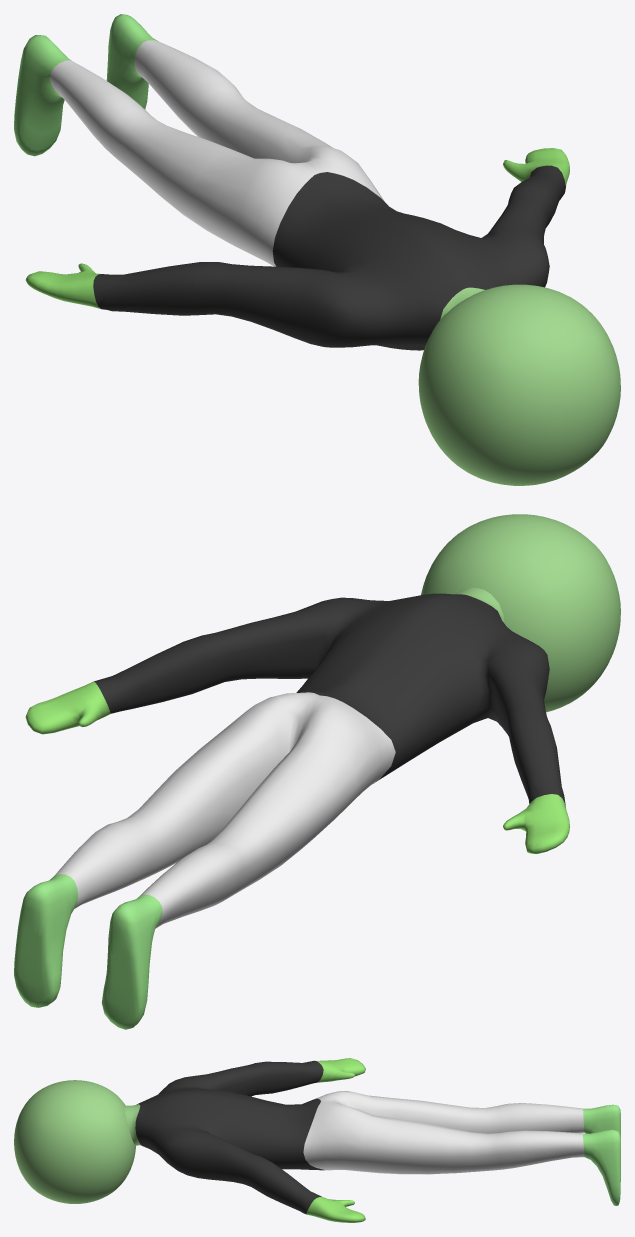
Rendered from THICCboyRoundHead.fbx.
3 renders of one model, top to bottom at view 1: azimuth 30°, elevation 25°; view 2: azimuth 150°, elevation 25°; view 3: azimuth 270°, elevation 25°, orthographic. The views are drawn at different scales.
Visible parts, largest first — view 1: FinalCharacterMesh.001; view 2: FinalCharacterMesh.001; view 3: FinalCharacterMesh.001.
Boxes of the visible parts, x1,y1,x2,y2 form: FinalCharacterMesh.001: [14, 14, 620, 485]; FinalCharacterMesh.001: [14, 514, 620, 1029]; FinalCharacterMesh.001: [14, 1058, 620, 1222].
Size of the model in its own units: 128 by 204 by 41.09.
